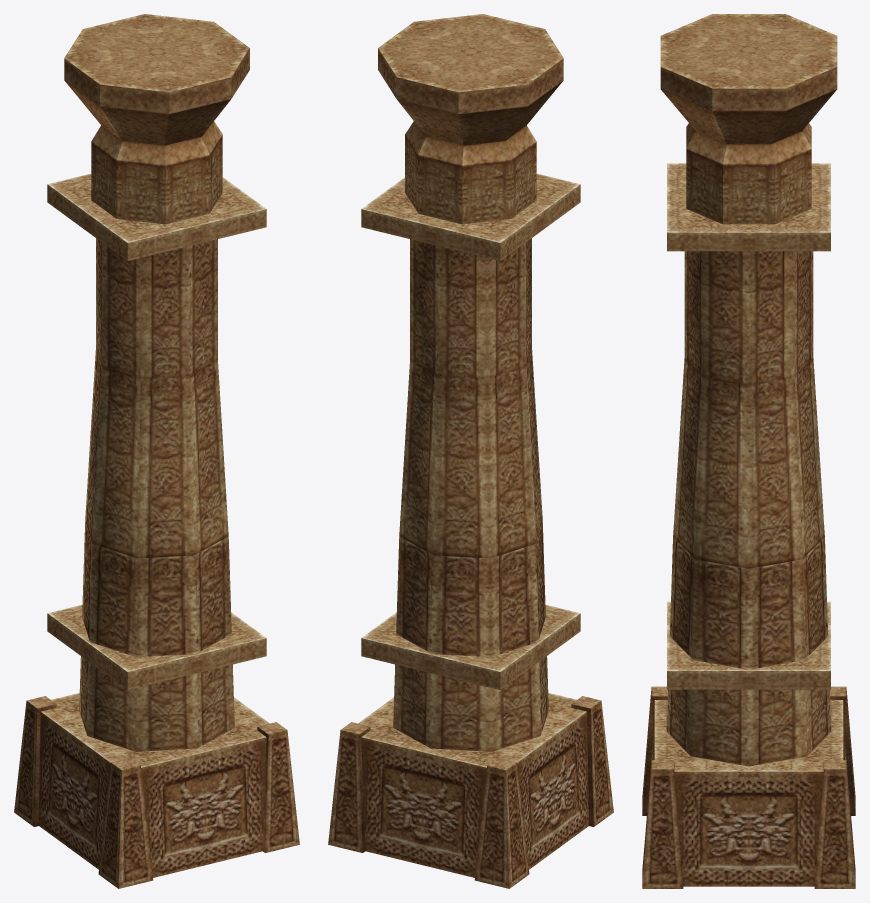
Rendered from general_obj_bigtoewr03.glb.
3 renders of one model, left to right at view 1: azimuth 30°, elevation 25°; view 2: azimuth 150°, elevation 25°; view 3: azimuth 270°, elevation 25°, orthographic. The views are drawn at different scales.
Visible parts, largest first — view 1: Sphere01; view 2: Sphere01; view 3: Sphere01.
Boxes of the visible parts, left/top/right/bottom form: Sphere01: left=14, top=14, right=299, bottom=888; Sphere01: left=328, top=14, right=613, bottom=888; Sphere01: left=642, top=14, right=855, bottom=888.
Bounding box in the file's own units: 5.22 × 21.37 × 5.21.
Materials: 1 (1 with a texture image).
